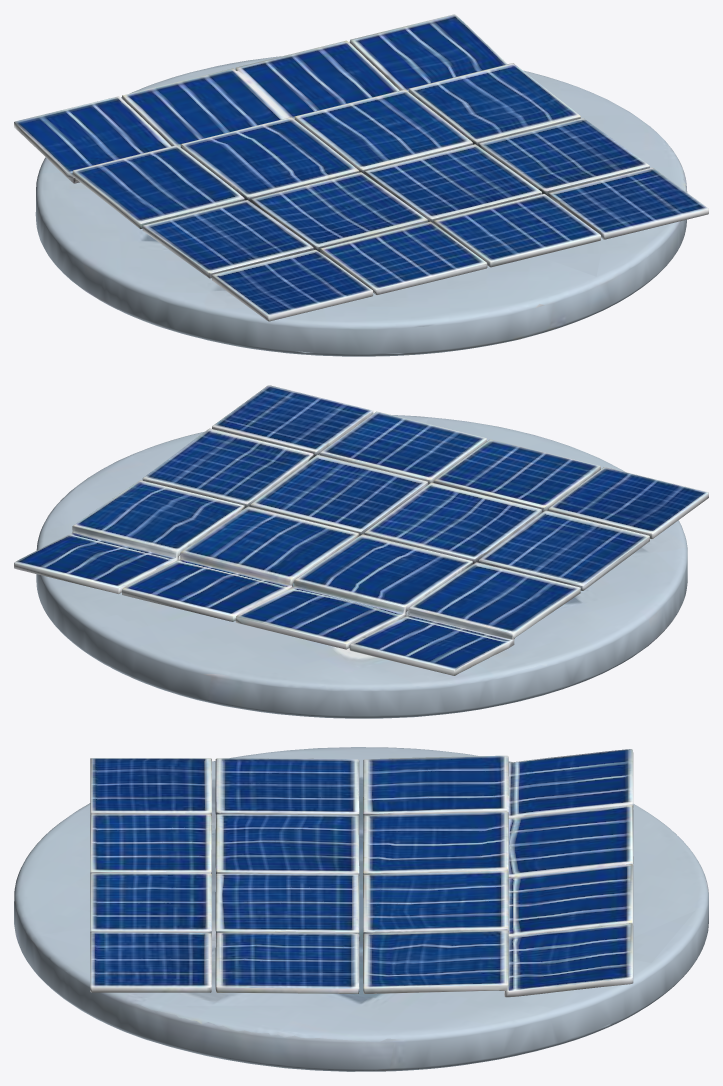
The model's file is solar.glb.
3 views of the same model, one above another, from view 1: azimuth 30°, elevation 25°; view 2: azimuth 150°, elevation 25°; view 3: azimuth 270°, elevation 25° (orthographic). The views are drawn at different scales.
Visible parts, largest first — view 1: mesh; view 2: mesh; view 3: mesh.
Boxes of the visible parts, bbox=[...] form: mesh: bbox=[14, 14, 708, 356]; mesh: bbox=[14, 385, 708, 718]; mesh: bbox=[14, 747, 708, 1071].
Size of the model in its own units: 0.9998 by 0.1028 by 1.
Materials: 1 (1 with a texture image).
